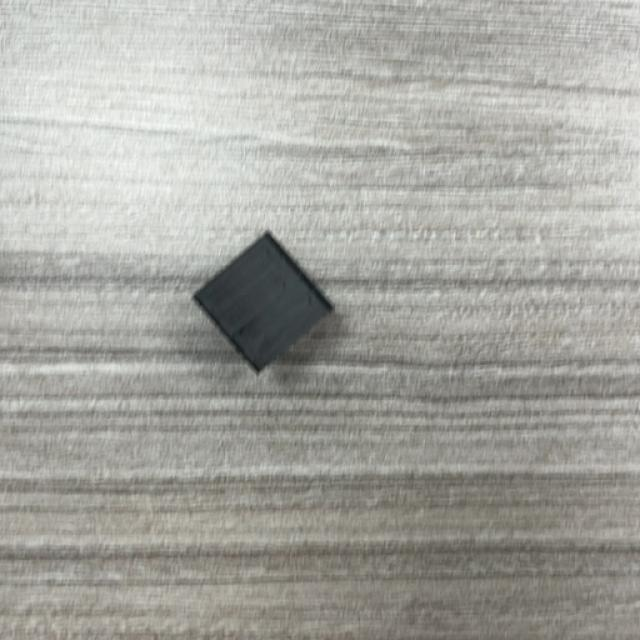Negro: (191, 231, 335, 374)
